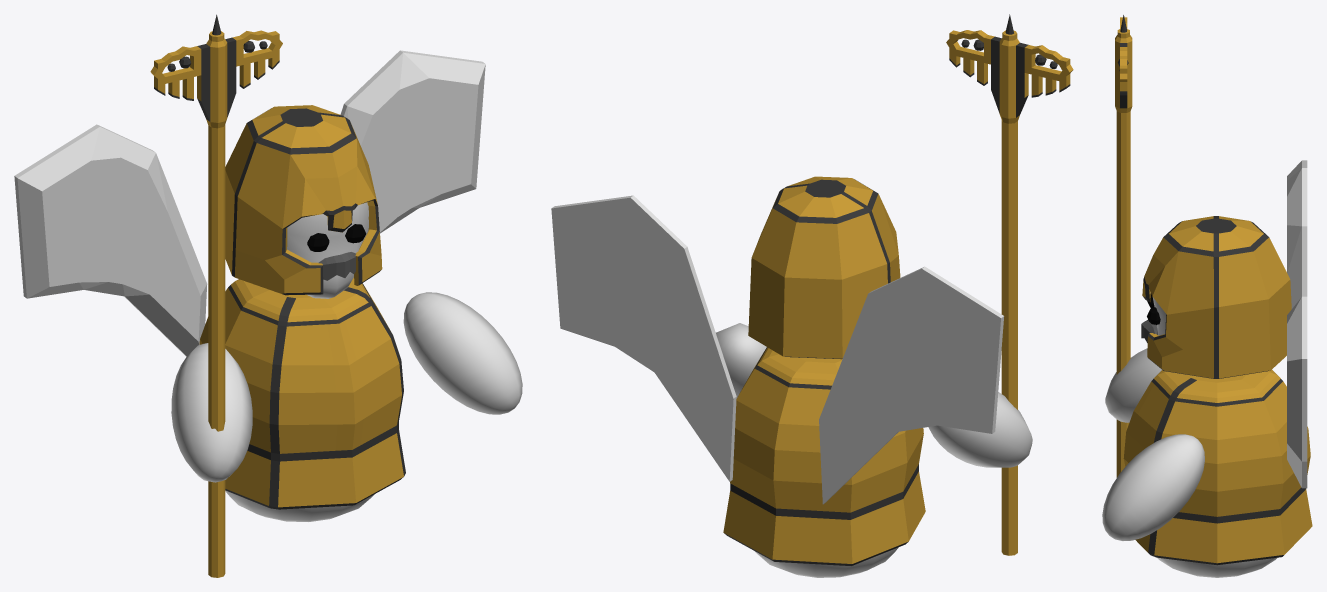
Rendered from ennemy_without_truc_jaune.fbx.
3 renders of one model, left to right at view 1: azimuth 30°, elevation 25°; view 2: azimuth 150°, elevation 25°; view 3: azimuth 270°, elevation 25°, orthographic. The views are drawn at different scales.
Visible parts, largest first — view 1: angel, chestplate, helmet, staff, moustache, Sphere; view 2: angel, chestplate, helmet, staff; view 3: chestplate, helmet, angel, staff.
Boxes of the visible parts, left/top/right/bottom form: angel: left=14, top=50, right=522, bottom=521; chestplate: left=199, top=277, right=405, bottom=509; helmet: left=225, top=105, right=382, bottom=295; staff: left=150, top=14, right=282, bottom=577; moustache: left=318, top=252, right=355, bottom=280; Sphere: left=307, top=224, right=366, bottom=251; angel: left=551, top=195, right=1032, bottom=577; chestplate: left=723, top=347, right=925, bottom=565; helmet: left=748, top=176, right=900, bottom=359; staff: left=946, top=14, right=1073, bottom=555; chestplate: left=1123, top=370, right=1312, bottom=565; helmet: left=1142, top=216, right=1291, bottom=378; angel: left=1102, top=160, right=1307, bottom=577; staff: left=1115, top=15, right=1132, bottom=477.
Bounding box in the file's own units: 579 × 662 × 259.
